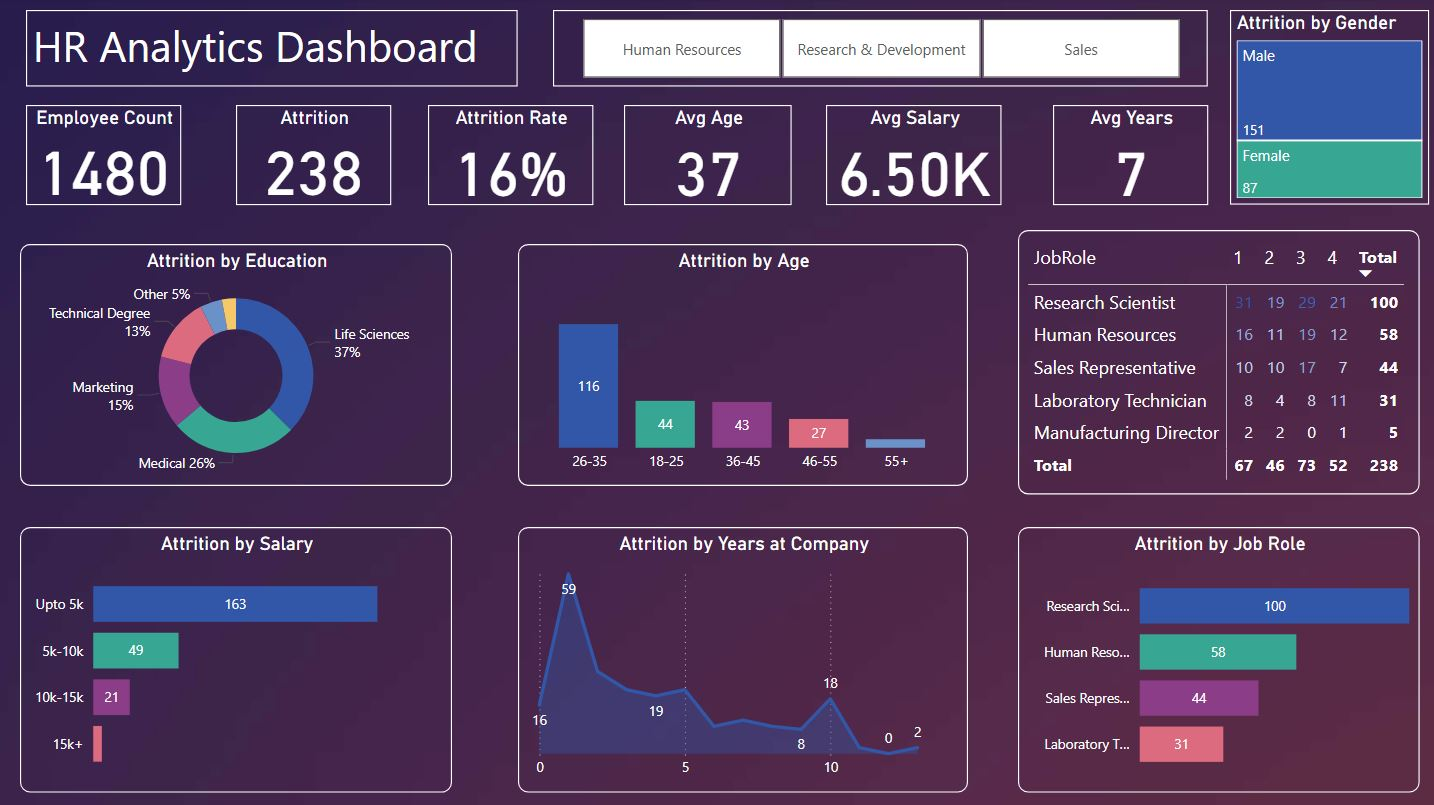

The page's visual inventory and layout, read from the dashboard file:
{"tool":"powerbi","page":{"name":"Page 1","canvas":[1280,720],"ordinal":0},"visuals":[{"type":"card","title":"Employee Count","fields":{"Values":["CountNonNull(HR_Data.EmpID)"]},"box":[24,96,137.8,88.9],"z":0},{"type":"card","title":"Attrition","fields":{"Values":["Sum(HR_Data.Attrition_Count)"]},"box":[210.7,96,137.8,88.9],"z":1000},{"type":"card","title":"Attrition Rate","fields":{"Values":["HR_Data.Attrition_Rate"]},"box":[381.3,96,146.7,88.9],"z":2000},{"type":"card","title":"Avg Age","fields":{"Values":["Avg(HR_Data.Age)"]},"box":[555.6,96,149.3,88.9],"z":3000},{"type":"card","title":"Avg Salary","fields":{"Values":["Avg(HR_Data.MonthlyIncome)"]},"box":[735.1,96,156.4,88.9],"z":4000},{"type":"card","title":"Avg Years","fields":{"Values":["Avg(HR_Data.YearsAtCompany)"]},"box":[936.9,96,137.8,88.9],"z":5000},{"type":"textbox","box":[24,11.6,437.3,68.4],"z":6000},{"type":"slicer","title":"Departments","fields":{"Values":["Departments.Department"]},"box":[492.4,11.6,582.2,68.4],"z":7000},{"type":"treemap","title":"Attrition by Gender","fields":{"Values":["Sum(HR_Data.Attrition_Count)"],"Group":["HR_Data.Gender"]},"box":[1094.2,11.6,176.9,173.3],"z":8000},{"type":"donutChart","title":"Attrition by Education","fields":{"Y":["Sum(HR_Data.Attrition_Count)"],"Category":["Education.Education"]},"box":[18.7,219.6,384,215.1],"z":9000},{"type":"barChart","title":"Attrition by Salary","fields":{"Category":["HR_Data.SalarySlab"],"Y":["Sum(HR_Data.Attrition_Count)"],"Series":["HR_Data.SalarySlab"]},"box":[18.7,471.1,384,235.6],"z":10000},{"type":"pivotTable","title":"Attrition by Education","fields":{"Rows":["Jobs.JobRole"],"Columns":["HR_Data.JobSatisfaction"],"Values":["Sum(HR_Data.Attrition_Count)"]},"box":[905.8,207.1,357.3,234.7],"z":11000},{"type":"areaChart","title":"Attrition by Years at Company","fields":{"Category":["HR_Data.YearsAtCompany"],"Y":["Sum(HR_Data.Attrition_Count)"]},"box":[461.3,471.1,400,235.6],"z":12000},{"type":"columnChart","title":"Attrition by Age","fields":{"Y":["Sum(HR_Data.Attrition_Count)"],"Category":["HR_Data.AgeGroup"],"Series":["HR_Data.AgeGroup"]},"box":[461.3,219.6,400,215.1],"z":13000},{"type":"barChart","title":"Attrition by Job Role","fields":{"Y":["Sum(HR_Data.Attrition_Count)"],"Category":["Jobs.JobRole"],"Series":["Jobs.JobRole"]},"box":[905.8,471.1,357.3,235.6],"z":14000}]}

Visuals, with their boxes in screenshot pixels (x1, y1, x2, y2), scaled from the page's 1280x720 canvas onto the 1434x805 screenshot:
"Employee Count" card: [left=27, top=107, right=181, bottom=207]
"Attrition" card: [left=236, top=107, right=390, bottom=207]
"Attrition Rate" card: [left=427, top=107, right=592, bottom=207]
"Avg Age" card: [left=622, top=107, right=790, bottom=207]
"Avg Salary" card: [left=824, top=107, right=999, bottom=207]
"Avg Years" card: [left=1050, top=107, right=1204, bottom=207]
textbox: [left=27, top=13, right=517, bottom=89]
"Departments" slicer: [left=552, top=13, right=1204, bottom=89]
"Attrition by Gender" treemap: [left=1226, top=13, right=1424, bottom=207]
"Attrition by Education" donutChart: [left=21, top=246, right=451, bottom=486]
"Attrition by Salary" barChart: [left=21, top=527, right=451, bottom=790]
"Attrition by Education" pivotTable: [left=1015, top=232, right=1415, bottom=494]
"Attrition by Years at Company" areaChart: [left=517, top=527, right=965, bottom=790]
"Attrition by Age" columnChart: [left=517, top=246, right=965, bottom=486]
"Attrition by Job Role" barChart: [left=1015, top=527, right=1415, bottom=790]
